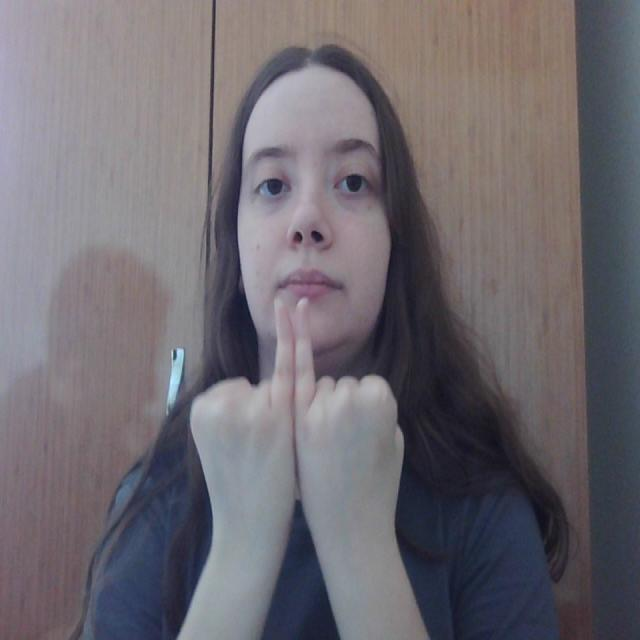Kardes: (188, 285, 408, 561)
